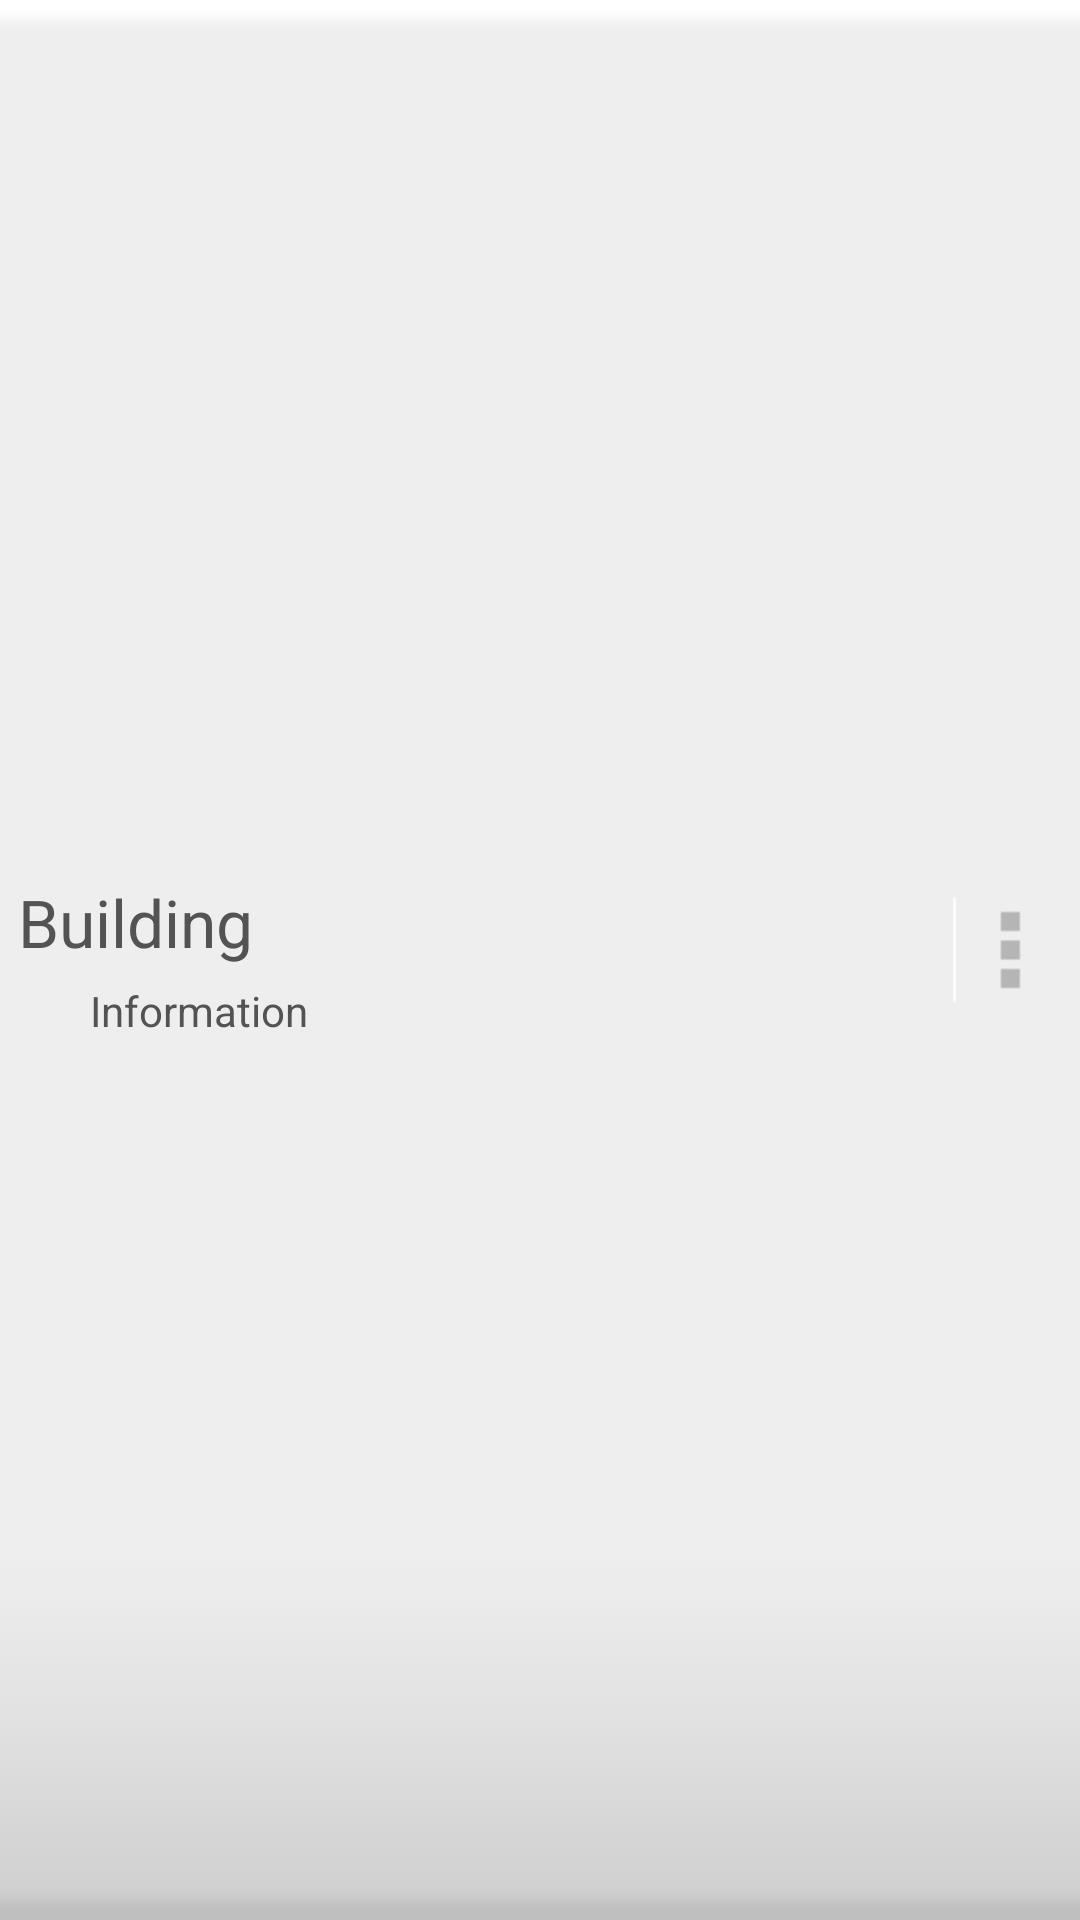

Icon click points for this 1080×1920 phone screenshot, format (x=x, y=y):
Options: (x=1010, y=950)
